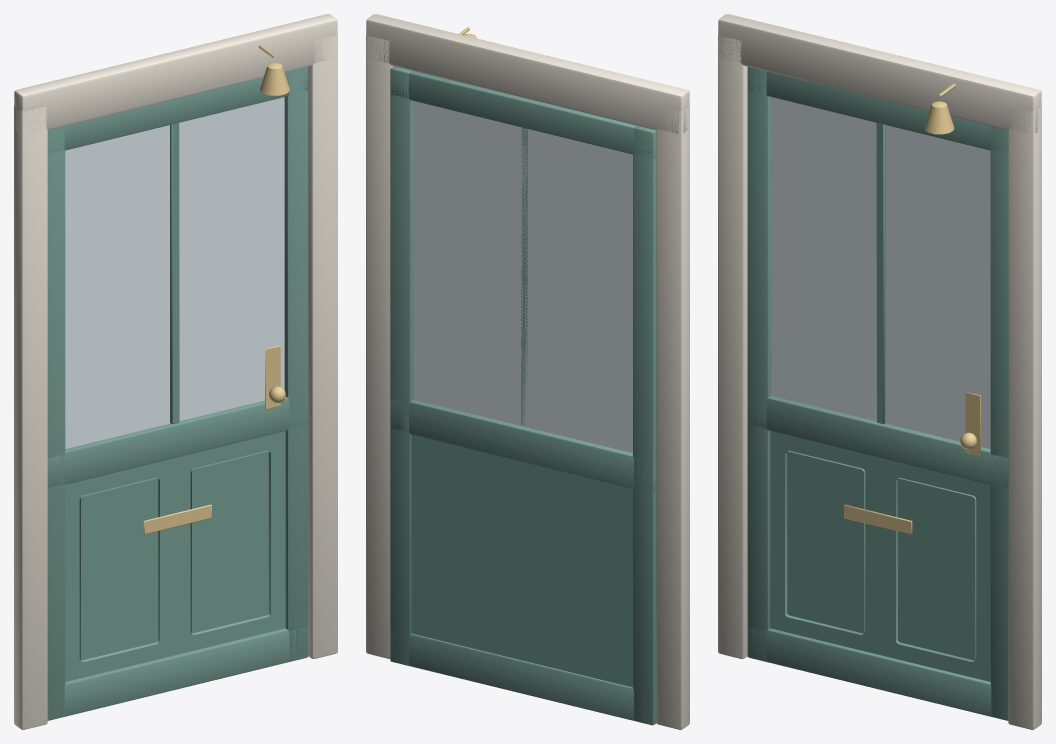
File: shop_door.glb
3 renders of one model, left to right at view 1: azimuth 30°, elevation 25°; view 2: azimuth 150°, elevation 25°; view 3: azimuth 330°, elevation 25°, orthographic.
Visible parts, largest first — view 1: shop_door; view 2: shop_door; view 3: shop_door.
Boxes of the visible parts, left/top/right/bottom form: shop_door: left=14, top=14, right=337, bottom=729; shop_door: left=366, top=14, right=689, bottom=729; shop_door: left=718, top=14, right=1041, bottom=729.
Bounding box in the file's own units: 1.2 × 2.3 × 0.2222.
